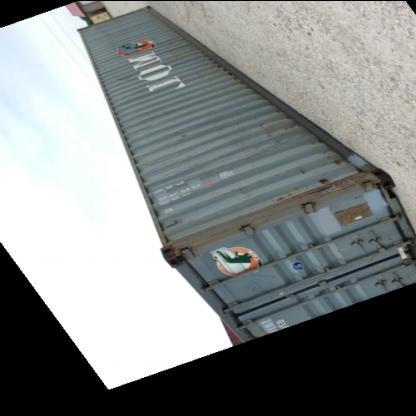Damage: (102, 40, 202, 82), (260, 96, 308, 146), (309, 174, 360, 198), (266, 184, 304, 208), (322, 144, 352, 170), (230, 182, 253, 206), (172, 126, 196, 144), (292, 162, 308, 176)
